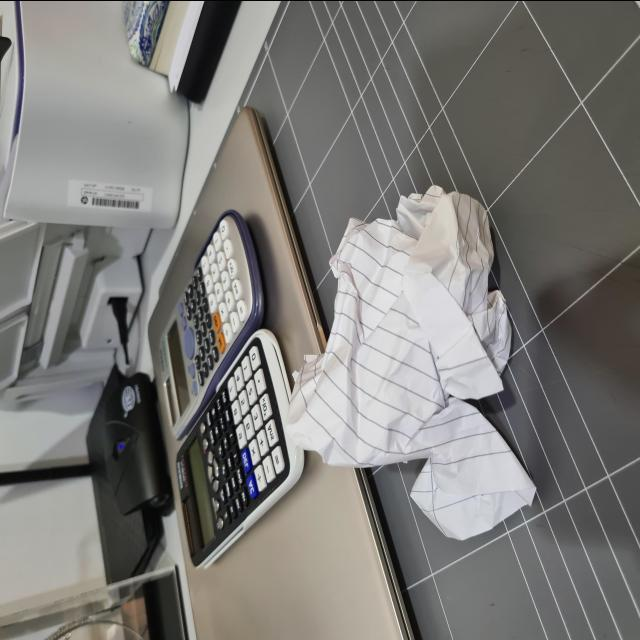Paper: (277, 184, 543, 532)
